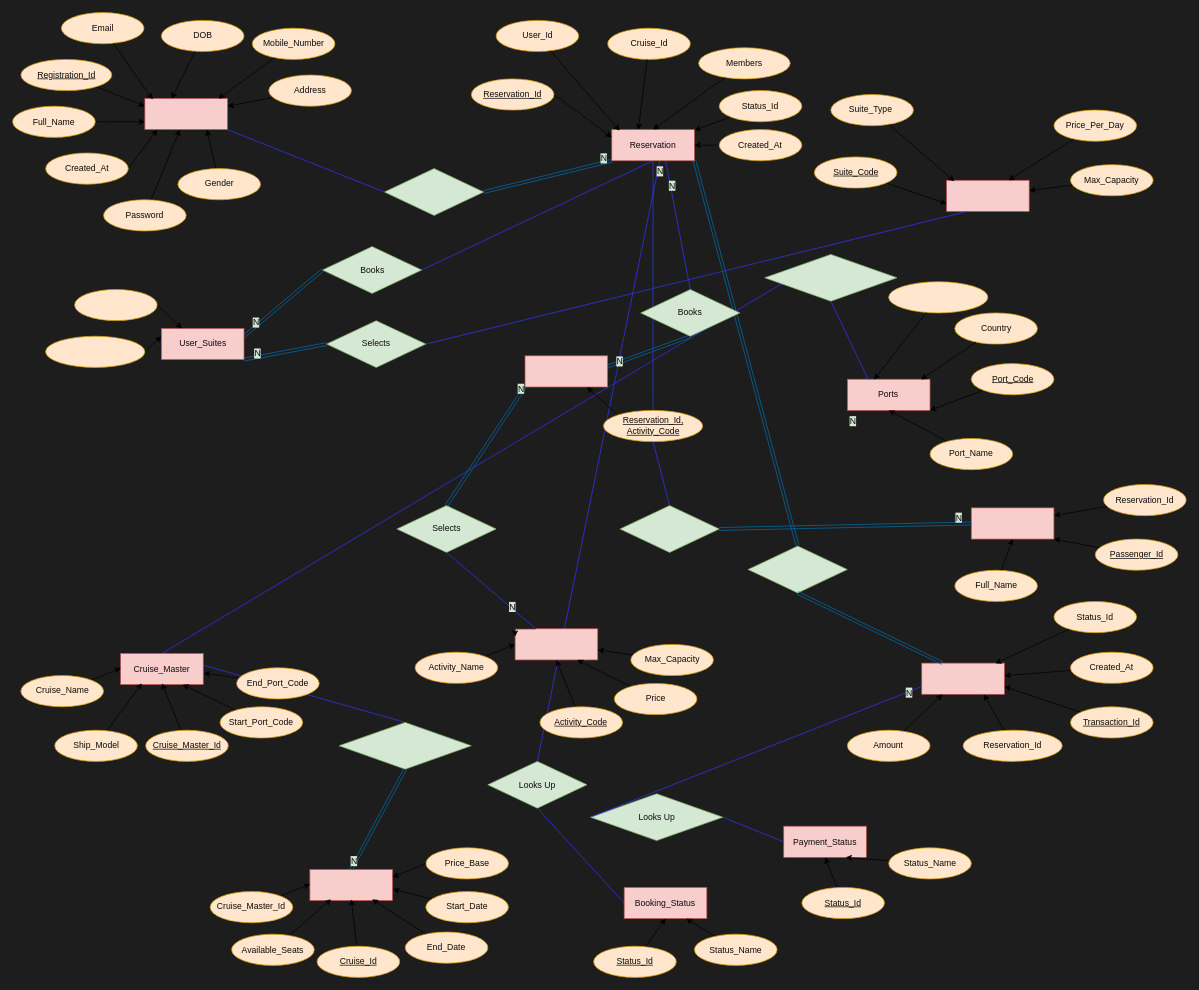
Some shapes in this 1199 by 990 pixel diagram are drawn without their labels. Here are the shapes that lost their labels. From the top down, the centre of each, then its label:
At pixel 186 114: "Personal".
At pixel 434 191: "Makes".
At pixel 987 195: "Suites".
At pixel 830 277: "Departs From/ Arrives From".
At pixel 938 297: "City".
At pixel 115 305: "NIghts".
At pixel 95 351: "Reservation_Id, Suite_Code".
At pixel 566 371: "User_Activities".
At pixel 669 528: "Includes".
At pixel 1012 523: "Passengers".
At pixel 797 569: "Has".
At pixel 556 644: "Activities".
At pixel 962 678: "Payment".
At pixel 404 745: "Schedules".
At pixel 351 885: "Cruise_Schedule".
